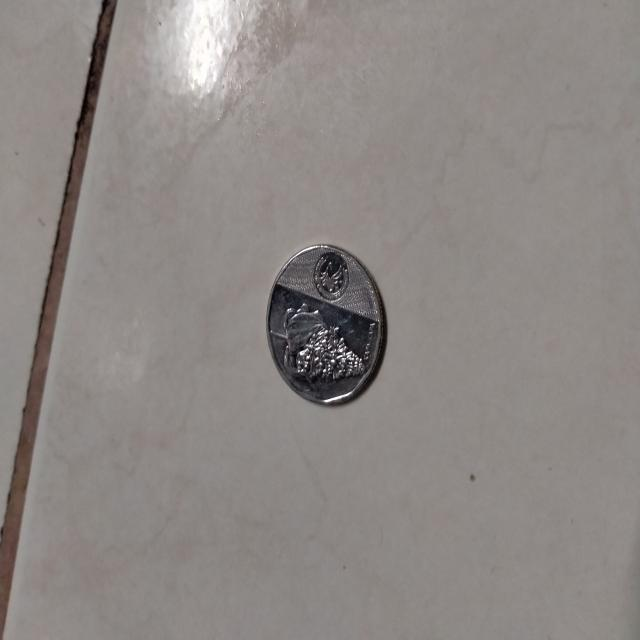10_New_Back: (282, 253, 370, 395)
